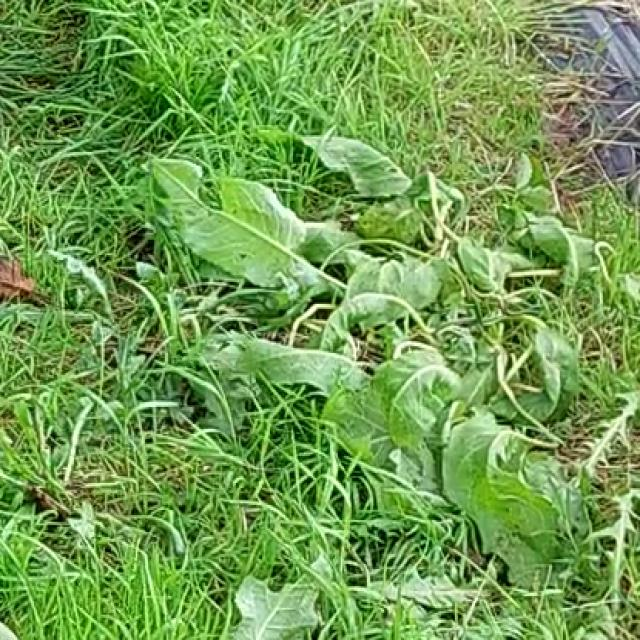organic waste: (131, 117, 640, 540)
